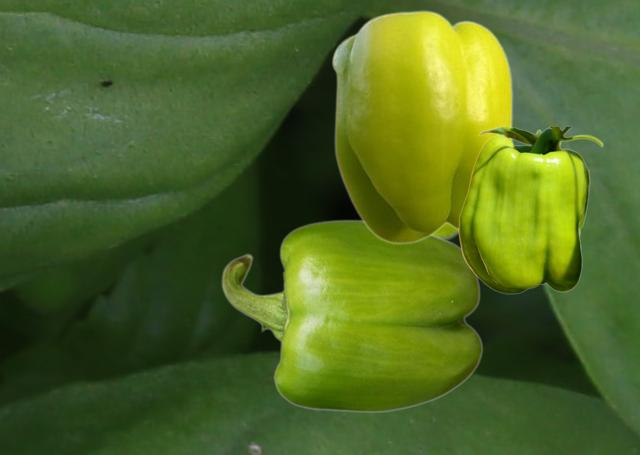bell_pepper: (221, 219, 482, 412), (331, 9, 512, 243), (458, 127, 602, 293), (436, 226, 457, 240)
